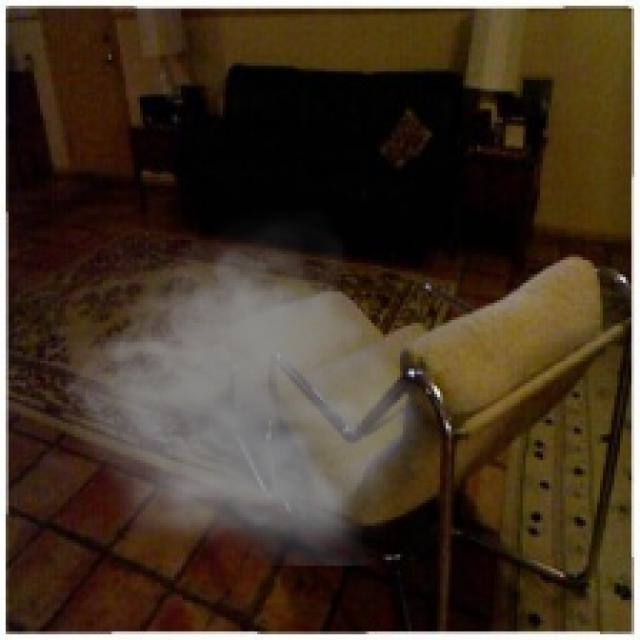smoke: (48, 205, 443, 566)
